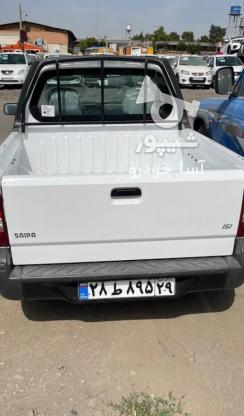car: (77, 277, 178, 301)
